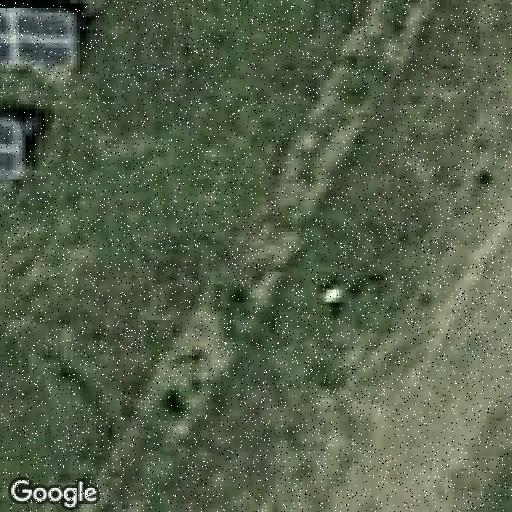solar-panel: (0, 2, 75, 68), (0, 117, 27, 176)
